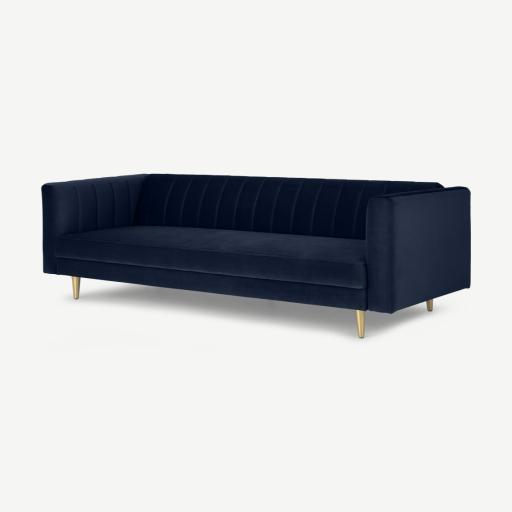back_cushion: (131, 174, 442, 240)
base: (58, 258, 366, 310)
left_arm: (366, 187, 470, 313)
legs: (356, 308, 365, 338), (73, 277, 80, 299), (428, 301, 432, 311)
right_arm: (43, 174, 146, 273)
seat_cushion: (54, 226, 366, 290)
two-seater: (0, 0, 511, 512)
